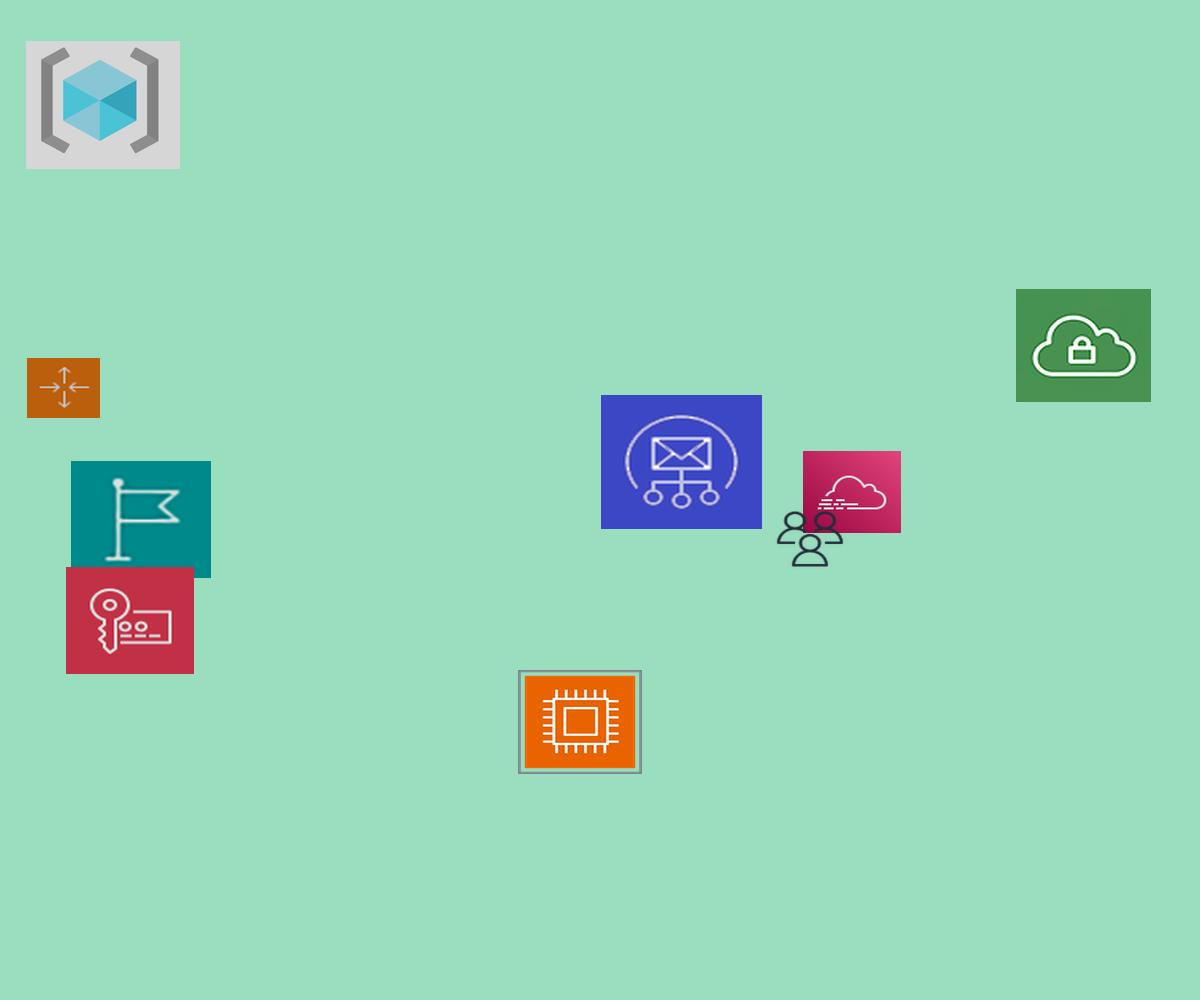AWS-Category_Compute: (518, 670, 642, 774)
AWS-CloudTrail: (803, 451, 901, 533)
AWS-Key-Management-Service: (66, 567, 194, 674)
AWS-Private_vpc: (1016, 289, 1151, 402)
AWS-Region: (71, 461, 211, 578)
AWS-Res_Users: (774, 509, 846, 569)
AWS-Scaling-group: (27, 358, 100, 418)
AWS-Simple-Email-Service: (601, 395, 762, 529)
Azure_resource_group: (26, 41, 180, 169)
